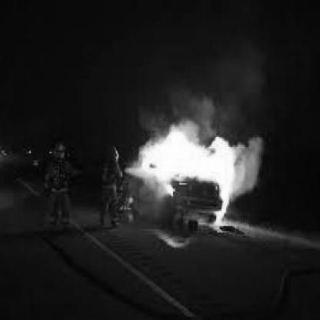Fire: (129, 120, 242, 232)
